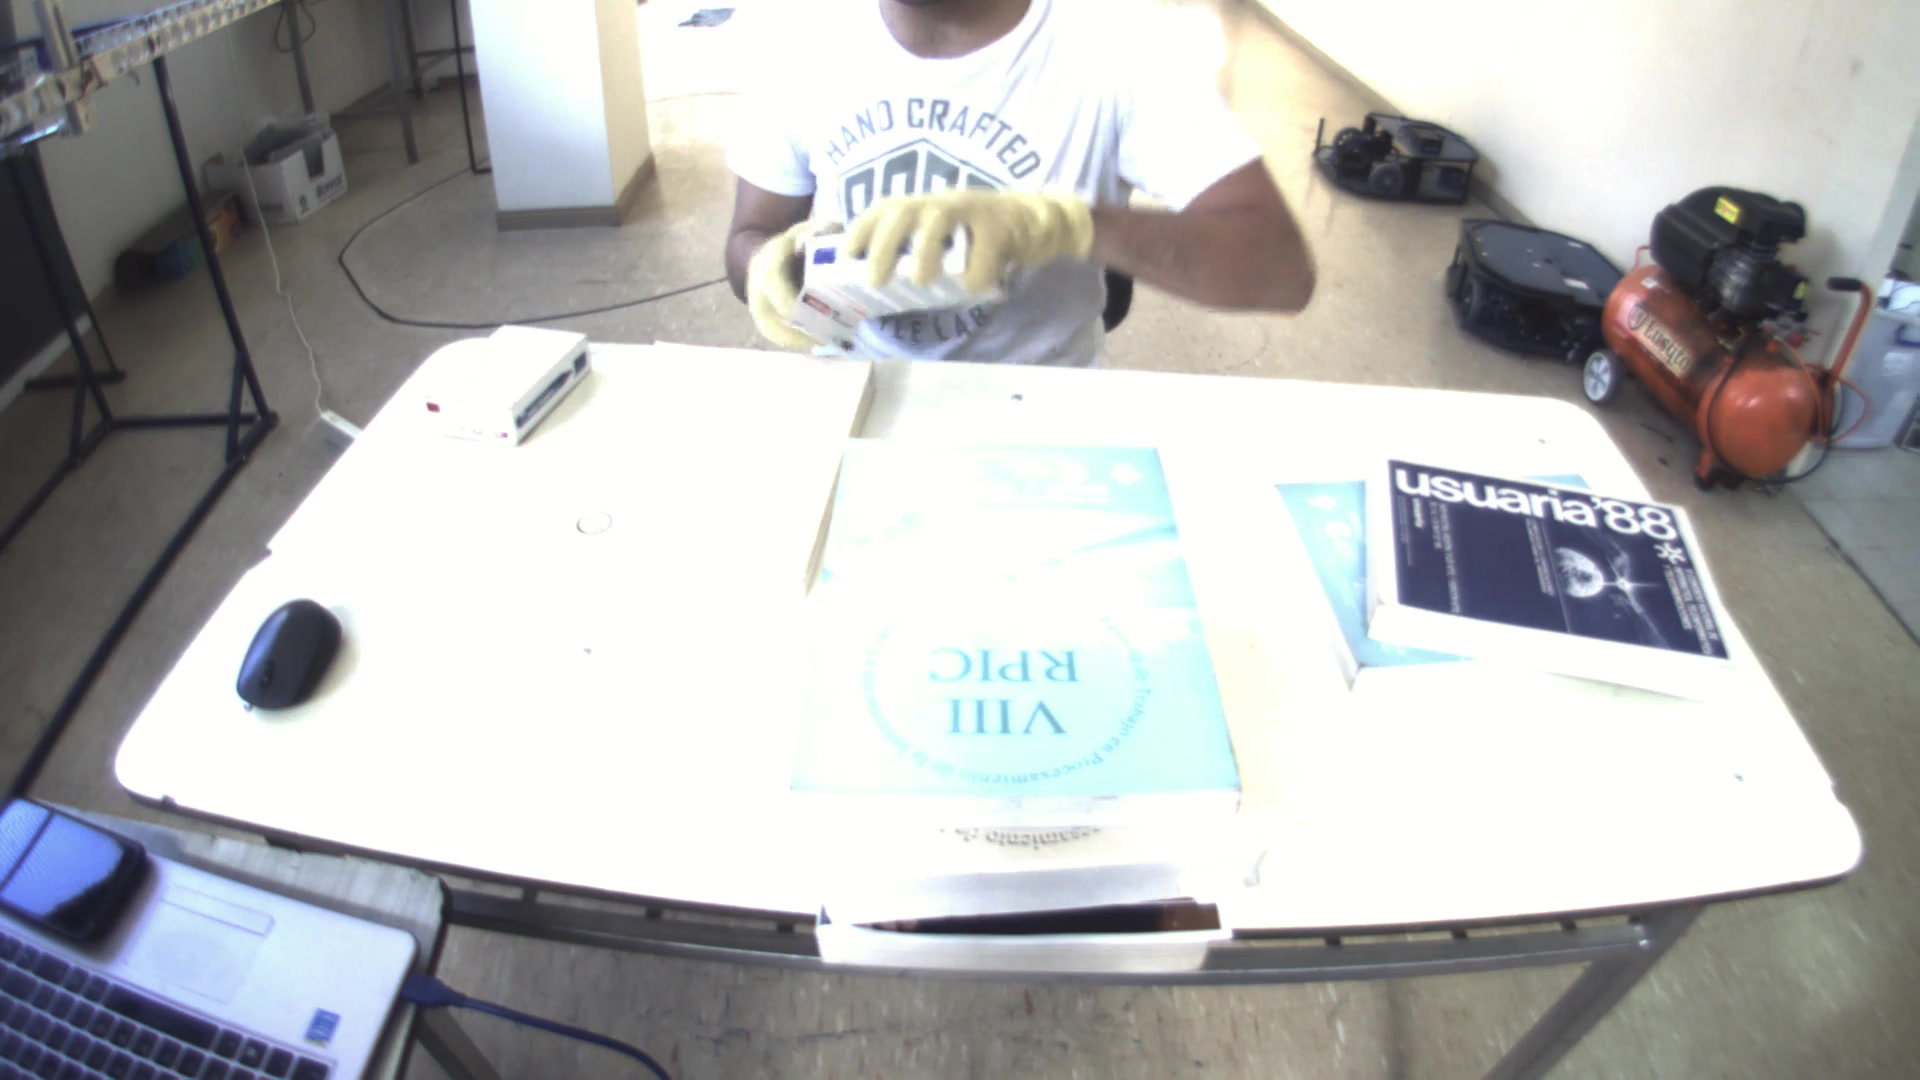hand: (831, 156, 1102, 294), (737, 222, 825, 357)
